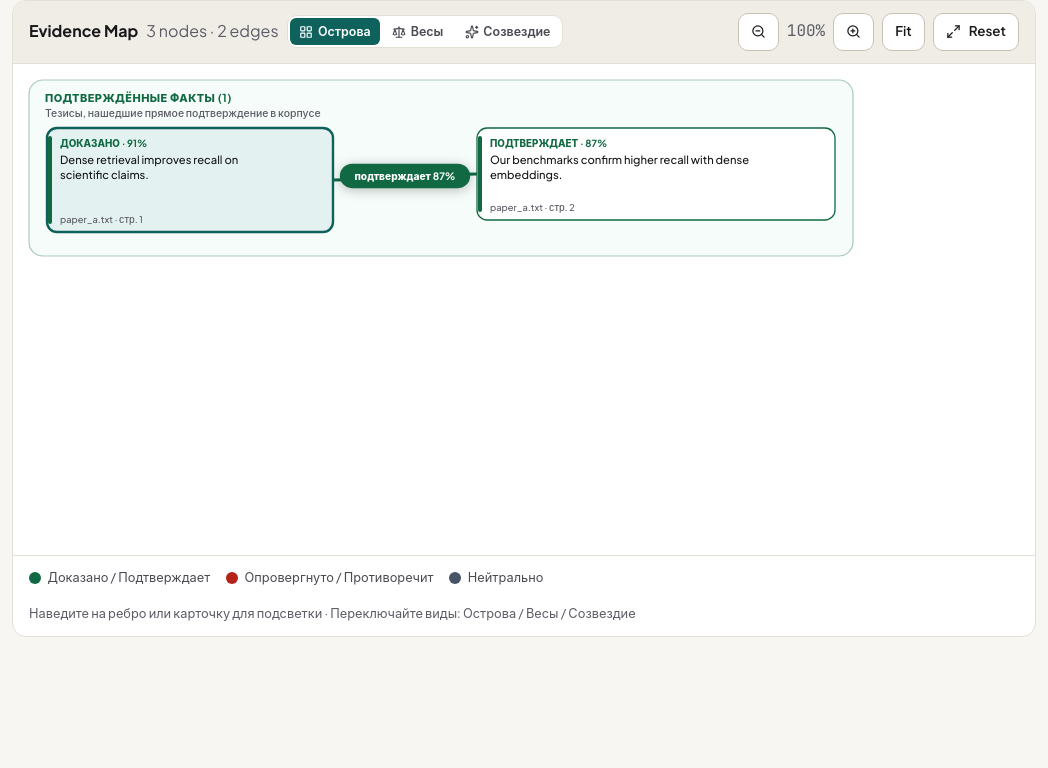
EvidenceMap › switches cleanly between Острова, Весы, and Созвездие layouts with highlighted edge labels
Expected: the text "ПОДТВЕРЖДЁННЫЕ ФАКТЫ" is shown, [45,91,232,104]
Note: Switch to Весы (balance)
What coordinates should you click on to do the following:
click the button "Весы"
I would click on:
 (418, 32)
Its box is [382,18,453,45].
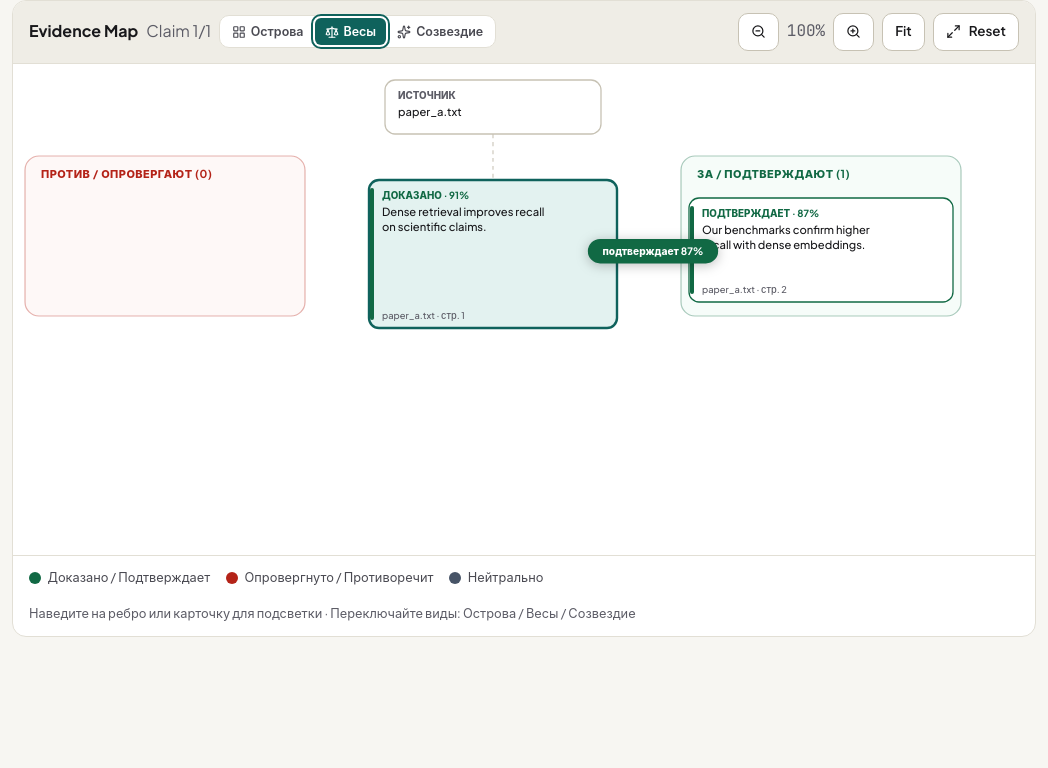
Expected: the text "ПРОТИВ / ОПРОВЕРГАЮТ" is shown, [41,167,212,180]
Result: the button "Весы" is pressed at [315,18,386,45]
Note: Switch to Созвездие (constellation)
What coordinates should you click on to do the following:
click the button "Созвездие"
I would click on:
 (440, 32)
Its box is [388,18,493,45].
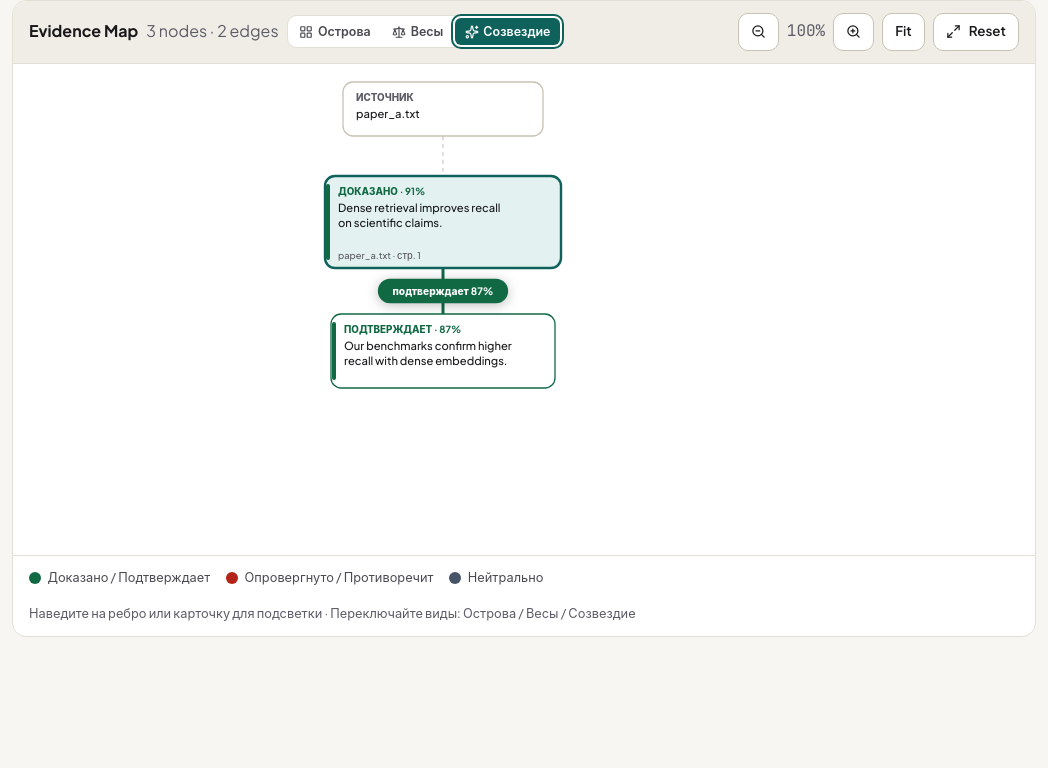
Expected: the button "document: paper_a.txt" is shown, [356,91,420,120]
Result: the button "Созвездие" is pressed at [455,18,560,45]
